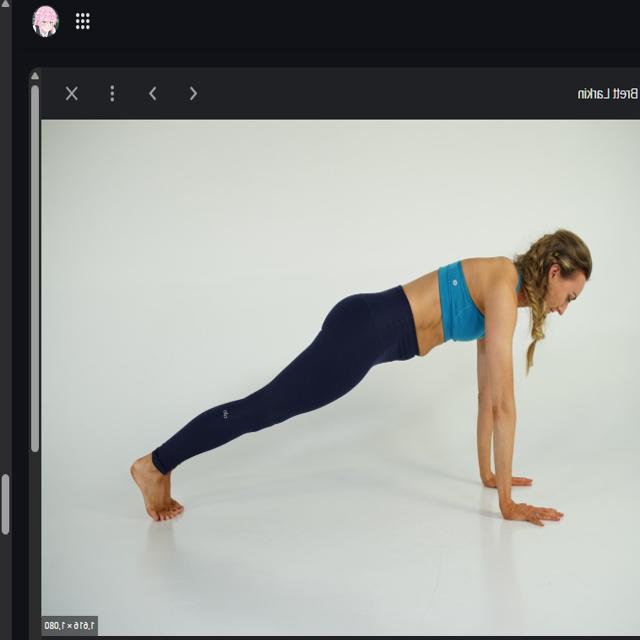Plank_Pose: (127, 229, 597, 535)
